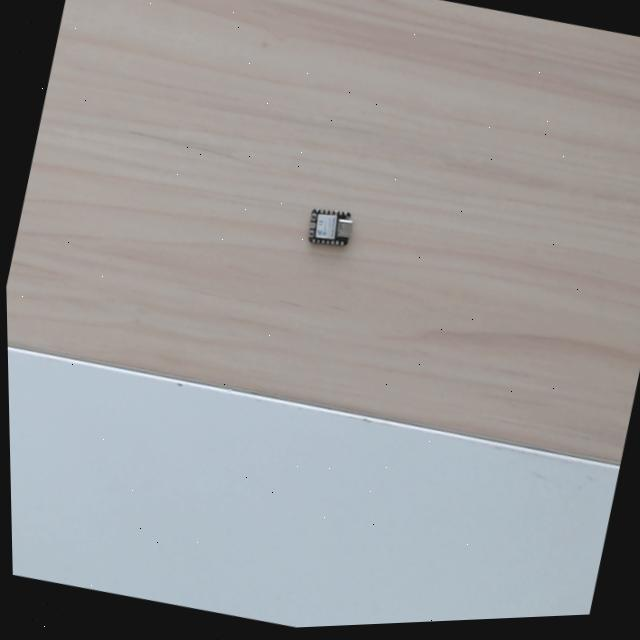ESP32C3-Xiao: (305, 205, 354, 251)
